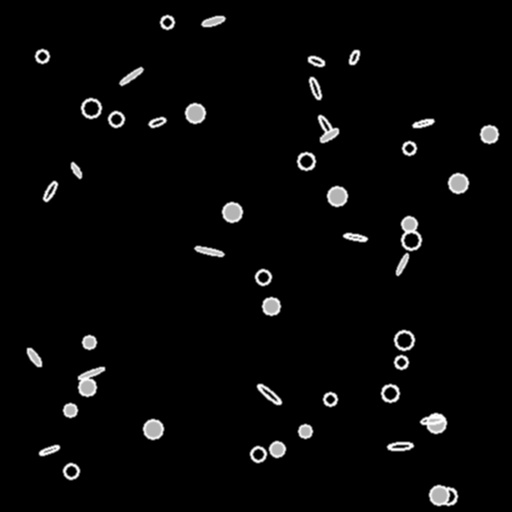pseudomonas: (256, 382, 282, 406), (316, 114, 336, 138), (119, 66, 143, 86), (25, 346, 43, 368), (78, 366, 104, 380), (42, 180, 58, 202), (195, 245, 223, 257), (319, 127, 339, 143), (308, 77, 322, 99), (395, 253, 409, 275), (202, 15, 224, 27), (38, 444, 60, 456), (69, 161, 83, 179), (307, 55, 325, 67), (387, 442, 413, 450), (413, 118, 433, 128), (348, 49, 360, 65), (148, 117, 166, 127), (344, 233, 366, 241), (421, 416, 443, 424)
synechocystis: (395, 331, 413, 349), (144, 420, 162, 438), (186, 104, 204, 122), (449, 174, 467, 192), (328, 187, 346, 205), (402, 231, 420, 249), (82, 99, 100, 117), (223, 203, 241, 221), (427, 414, 445, 432), (430, 486, 448, 504), (440, 488, 456, 504), (382, 385, 398, 401), (79, 379, 95, 395), (263, 298, 279, 314), (481, 126, 497, 142), (298, 153, 314, 169), (64, 464, 78, 478), (251, 447, 265, 461), (109, 112, 123, 126), (402, 217, 416, 231), (270, 442, 284, 456), (256, 270, 270, 284), (161, 16, 173, 28), (299, 425, 311, 437), (64, 404, 76, 416), (36, 50, 48, 62), (324, 393, 336, 405), (395, 356, 407, 368), (403, 142, 415, 154), (83, 336, 95, 348)
